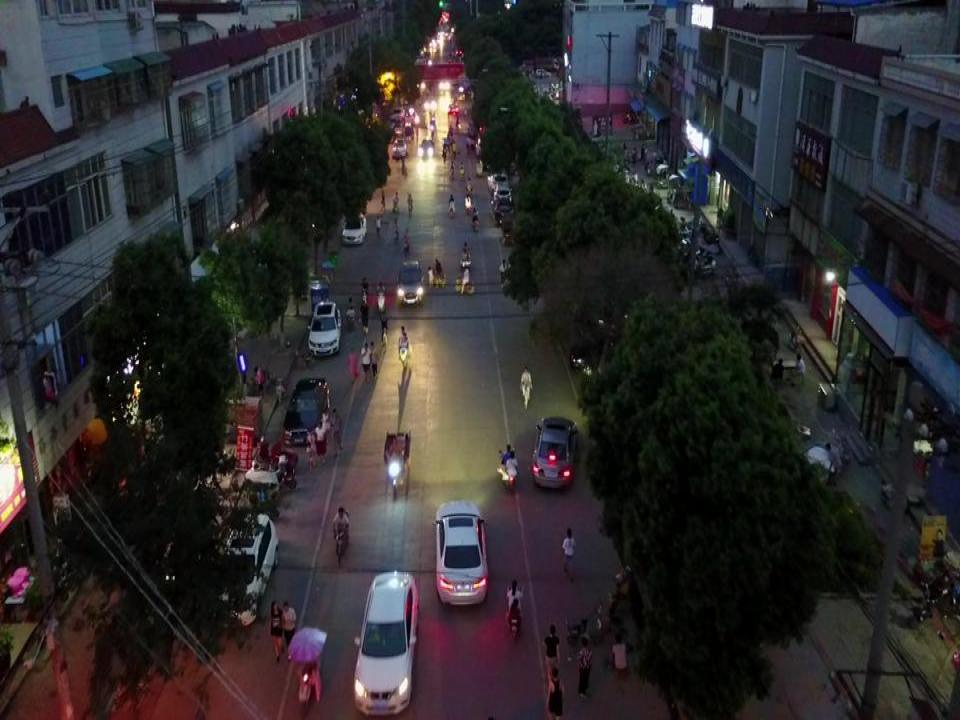car: (353, 569, 418, 716), (203, 512, 280, 629), (432, 499, 488, 605), (531, 416, 580, 489), (281, 378, 331, 445), (568, 331, 630, 376), (306, 300, 342, 357), (396, 260, 424, 305), (340, 208, 368, 245)
